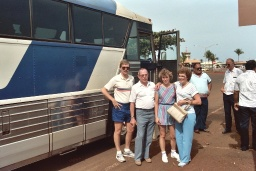bus: (1, 1, 179, 170)
person: (104, 57, 133, 160), (174, 64, 200, 171), (153, 66, 178, 165), (132, 65, 154, 168), (235, 57, 255, 153), (220, 54, 240, 136), (190, 61, 210, 134)
